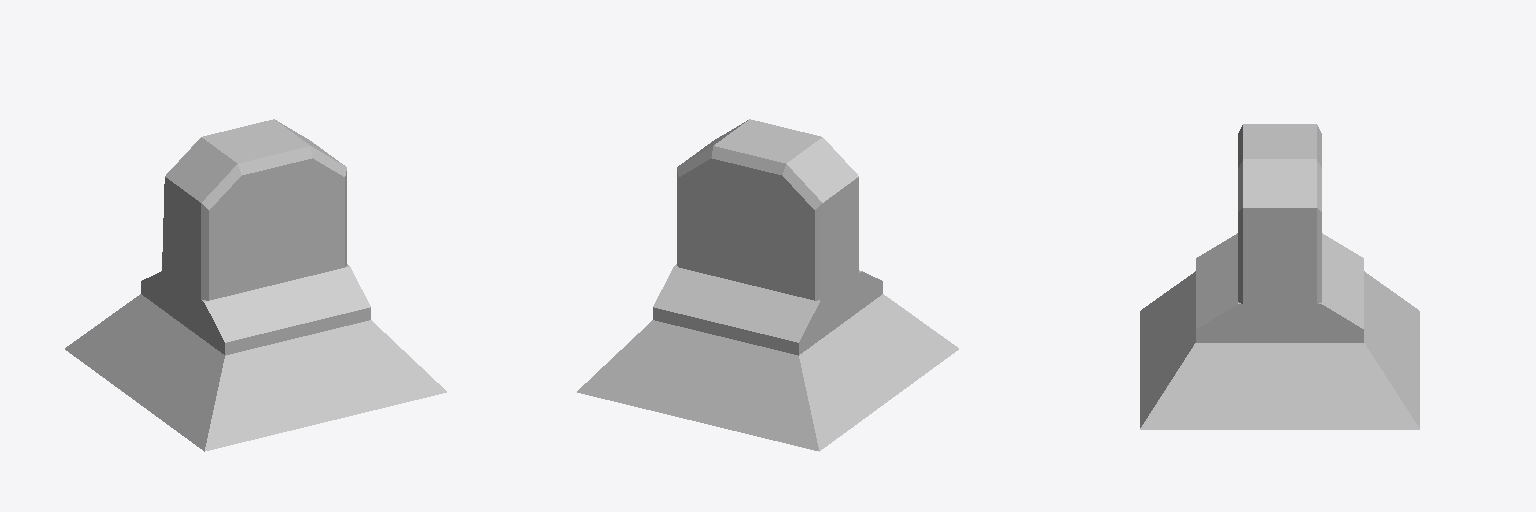
Rendered from tombstone.obj.
3 renders of one model, left to right at view 1: azimuth 30°, elevation 25°; view 2: azimuth 150°, elevation 25°; view 3: azimuth 270°, elevation 25°, orthographic.
Parts seen in each view (by area): view 1: Plane; view 2: Plane; view 3: Plane.
Part boxes in pixels (x1,y1,x2,y2): Plane: (65, 119, 446, 451); Plane: (577, 119, 958, 451); Plane: (1140, 124, 1419, 429).
Size of the model in its own units: 1 by 0.9 by 1.